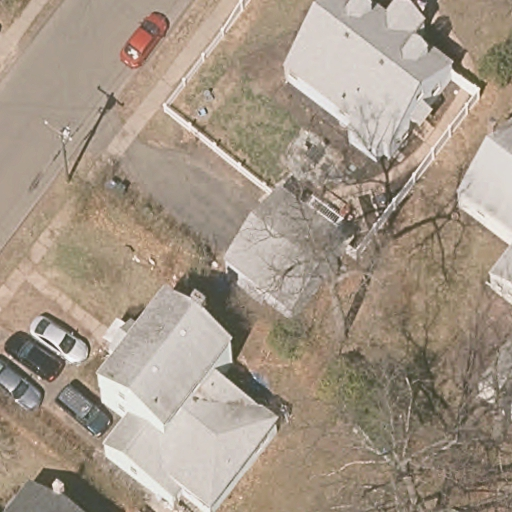DT: (42, 120, 74, 182)
